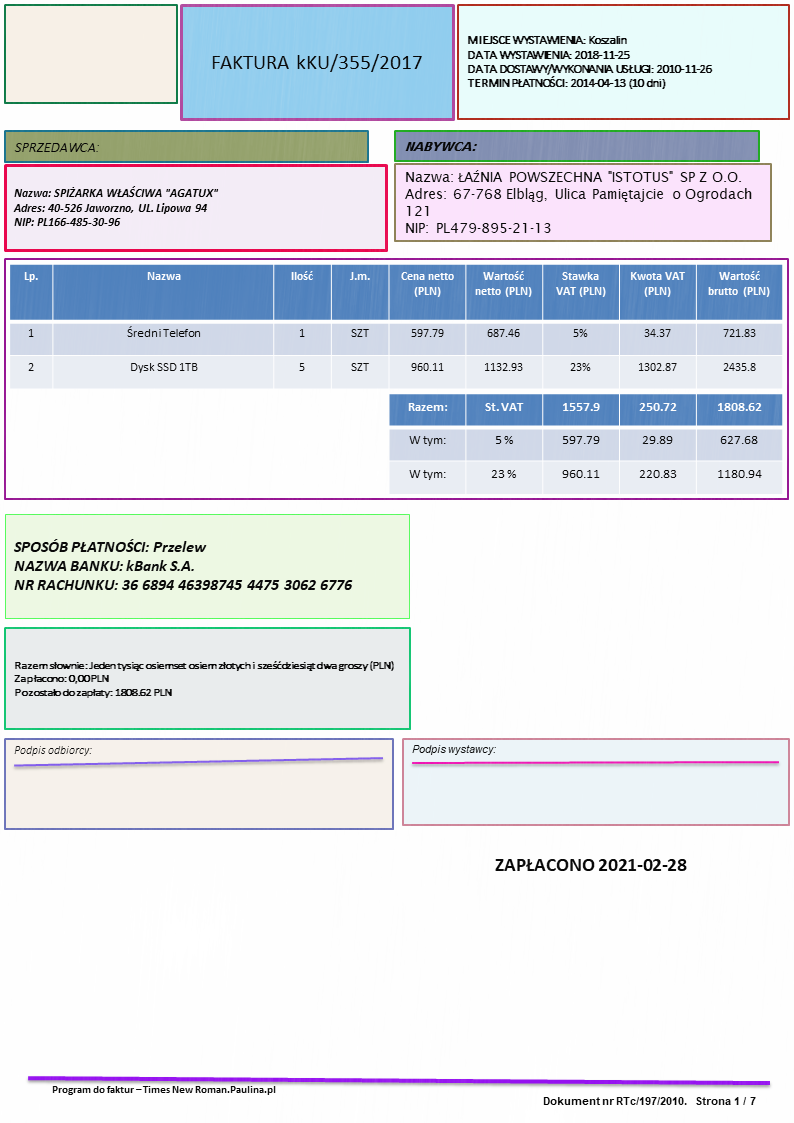Table: (8, 263, 783, 390), (388, 392, 785, 496)
TextBox: (401, 167, 753, 236), (10, 533, 354, 597), (12, 655, 399, 701), (465, 29, 713, 92), (11, 184, 220, 229), (209, 50, 424, 75), (493, 854, 689, 874), (541, 1092, 761, 1109), (48, 1082, 279, 1098), (11, 136, 101, 156), (410, 741, 499, 759), (11, 740, 93, 759), (403, 136, 479, 155)
